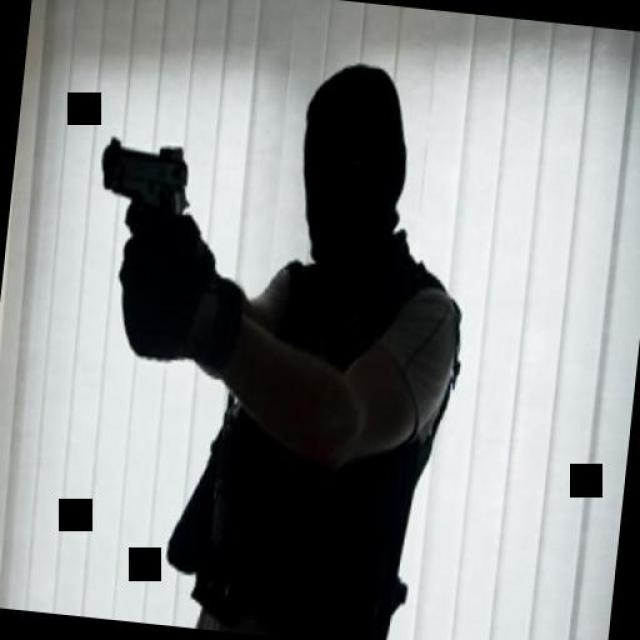gun: (94, 126, 196, 225)
